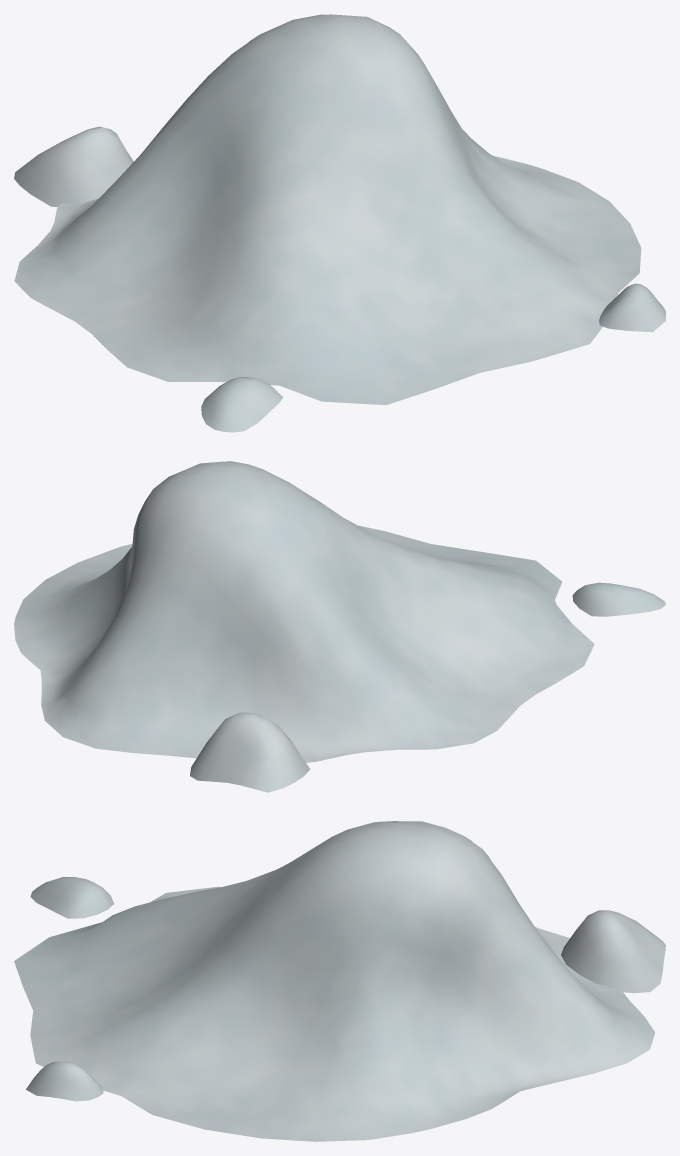
The model's file is Snow Mound.obj.
The picture shows the model from 3 angles, top to bottom: view 1: azimuth 30°, elevation 25°; view 2: azimuth 150°, elevation 25°; view 3: azimuth 270°, elevation 25°; orthographic projection. The views are drawn at different scales.
Parts seen in each view (by area): view 1: SnowMound; view 2: SnowMound; view 3: SnowMound.
Boxes of the visible parts, x1,y1,x2,y2 form: SnowMound: (14,14,665,432); SnowMound: (14,461,665,792); SnowMound: (14,821,665,1141).
Size of the model in its own units: 1.64 by 0.6101 by 1.77.
1 material, 1 textured.
